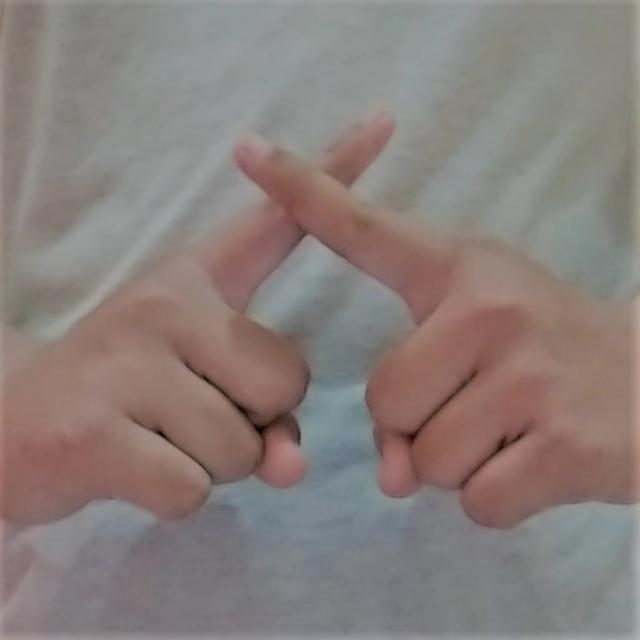X: (60, 67, 601, 583)
